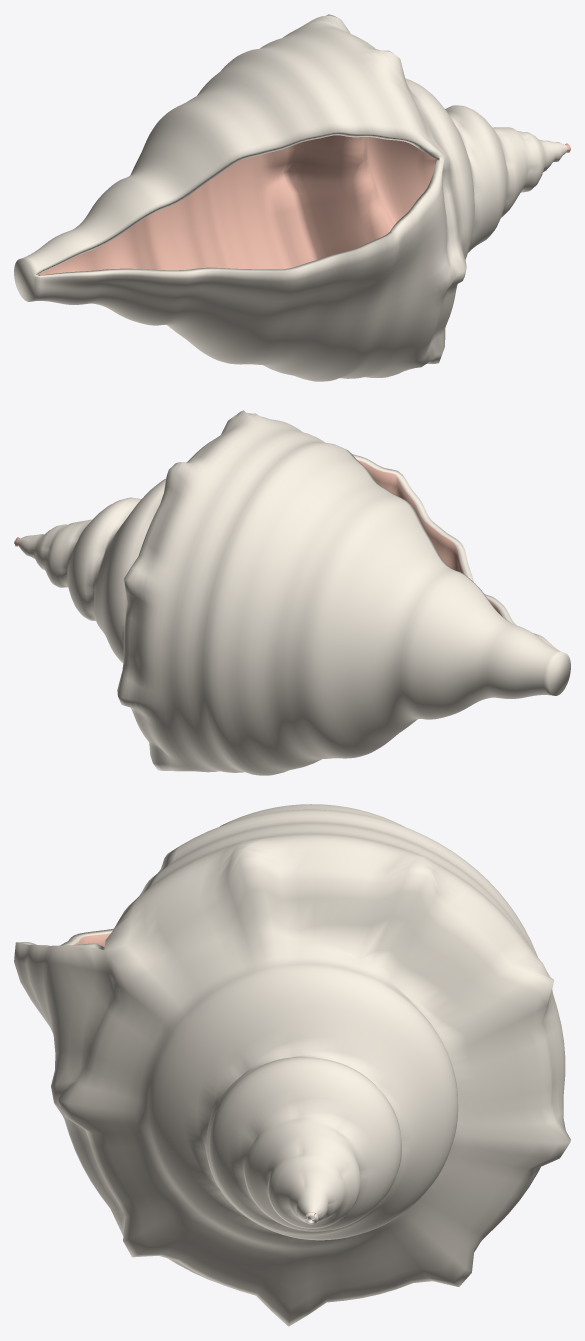
The model's file is shankha.glb.
3 views of the same model, one above another, from view 1: azimuth 30°, elevation 25°; view 2: azimuth 150°, elevation 25°; view 3: azimuth 270°, elevation 25° (orthographic). The views are drawn at different scales.
Parts seen in each view (by area): view 1: shankha; view 2: shankha; view 3: shankha.
Part boxes in pixels (box(x1,y1,x2,y2)): shankha: box(14, 14, 570, 381); shankha: box(14, 410, 570, 775); shankha: box(14, 804, 570, 1326).
Bounding box in the file's own units: 2 × 1.17 × 1.26.
